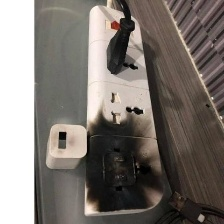three_eye_plug: (79, 2, 167, 220)
